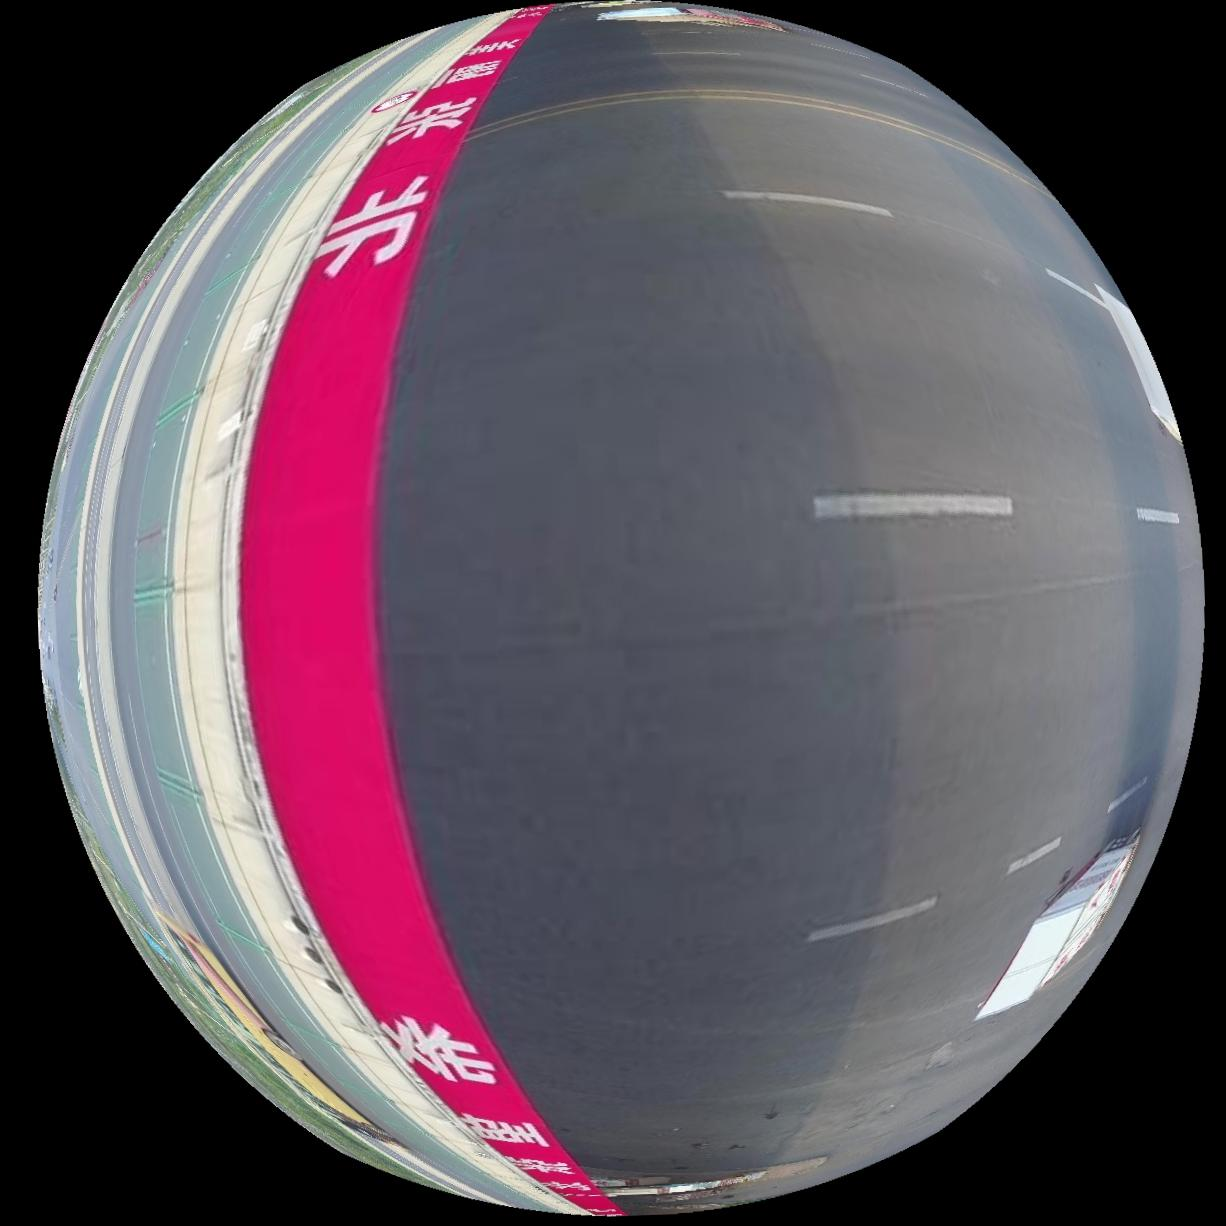cars: (157, 912, 375, 1133), (978, 831, 1142, 1021), (1098, 282, 1183, 440)
